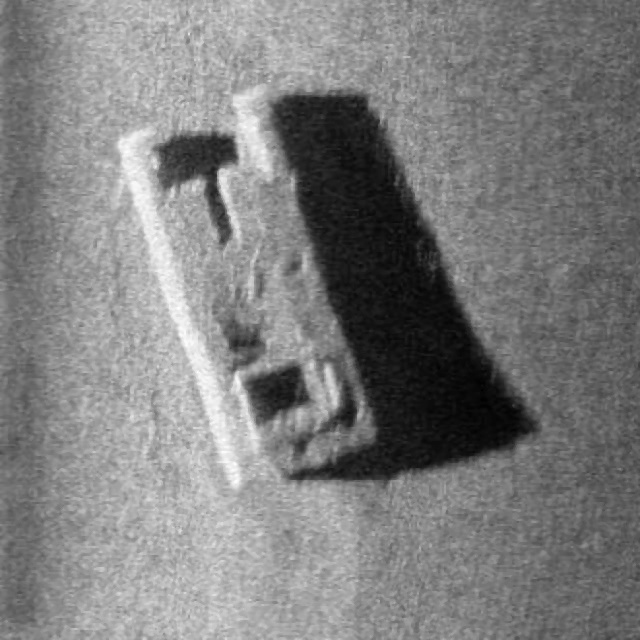Ship: (112, 75, 393, 493)
